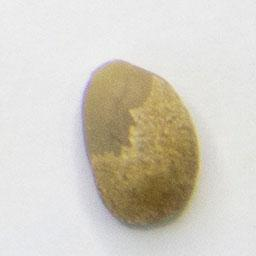longberry: (77, 54, 204, 232)
